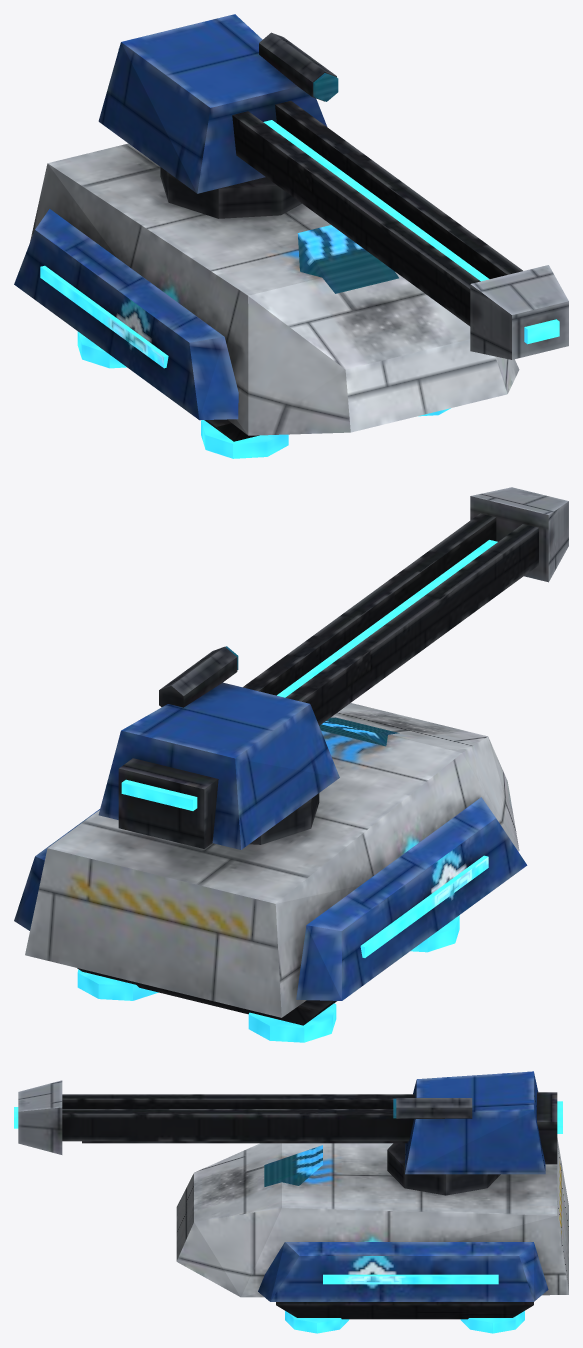
File: u_lancer1_w.glb
3 renders of one model, top to bottom at view 1: azimuth 30°, elevation 25°; view 2: azimuth 150°, elevation 25°; view 3: azimuth 270°, elevation 25°, orthographic. The views are drawn at different scales.
Parts seen in each view (by area): view 1: u_lancer1_w; view 2: u_lancer1_w; view 3: u_lancer1_w.
Boxes of the visible parts, <box> form: u_lancer1_w: <box>14,14,568,458</box>; u_lancer1_w: <box>14,487,568,1042</box>; u_lancer1_w: <box>14,1071,568,1333</box>.
Size of the model in its own units: 0.92 by 0.79 by 1.89.
Materials: 1 (1 with a texture image).
